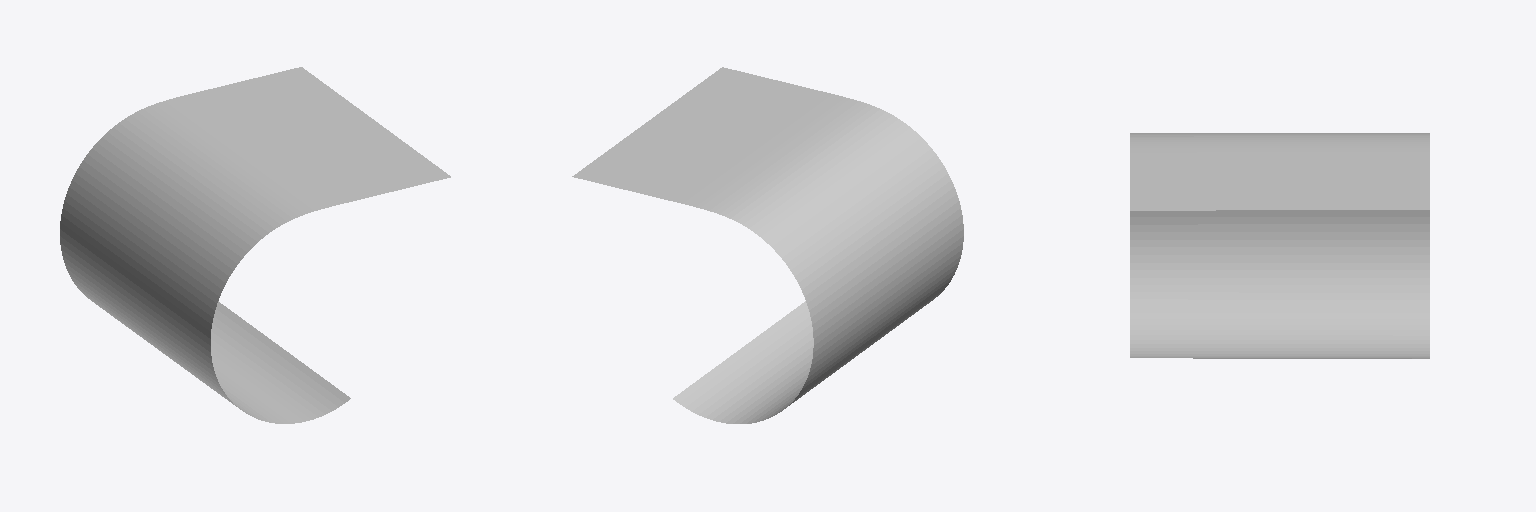
File: CurvePaper_000034.obj
3 renders of one model, left to right at view 1: azimuth 30°, elevation 25°; view 2: azimuth 150°, elevation 25°; view 3: azimuth 270°, elevation 25°, orthographic.
Parts seen in each view (by area): view 1: Plane; view 2: Plane; view 3: Plane.
Part boxes in pixels (x1,y1,x2,y2): Plane: (60, 67, 450, 423); Plane: (572, 67, 963, 423); Plane: (1130, 133, 1429, 358).
Size of the model in its own units: 2.1 by 1.74 by 2.26.